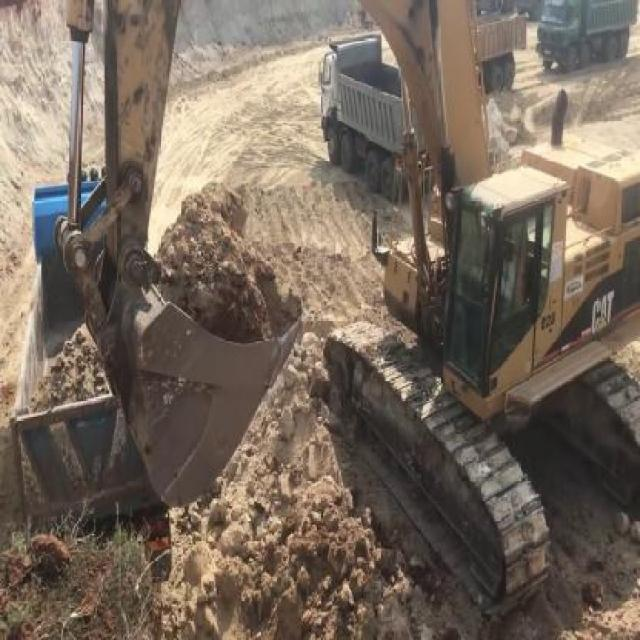Dump Truck: (16, 166, 153, 568), (318, 33, 422, 199), (536, 0, 638, 69), (481, 17, 527, 88)
Excavator: (43, 0, 639, 623)
